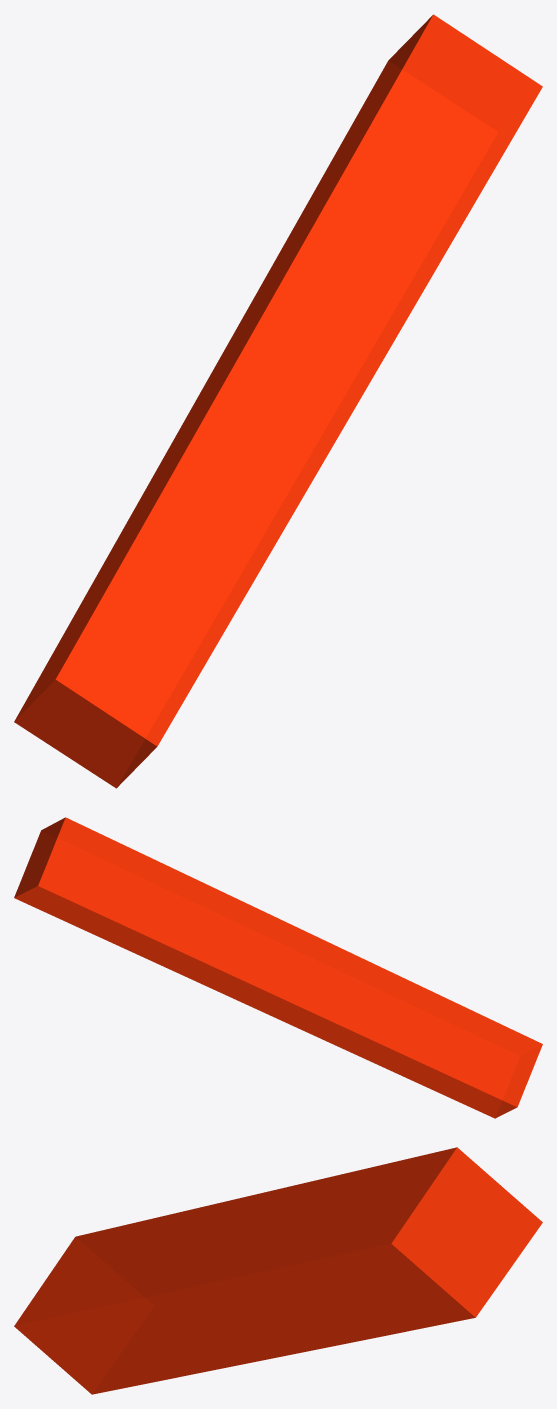
File: Event_421278790_EBrechit_7.fbx
3 views of the same model, one above another, from view 1: azimuth 30°, elevation 25°; view 2: azimuth 150°, elevation 25°; view 3: azimuth 270°, elevation 25° (orthographic). The views are drawn at different scales.
Visible parts, largest first — view 1: Model; view 2: Model; view 3: Model.
Part boxes in pixels (bbox=[...]): Model: bbox=[14, 14, 542, 788]; Model: bbox=[14, 817, 542, 1118]; Model: bbox=[14, 1147, 542, 1394].
Size of the model in its own units: 0.3657 by 0.2722 by 0.2699.
